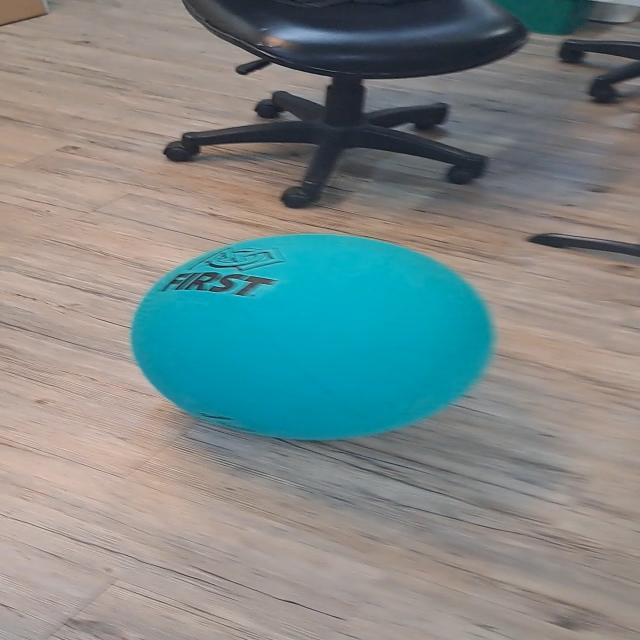ALGAE: (127, 232, 497, 442)
